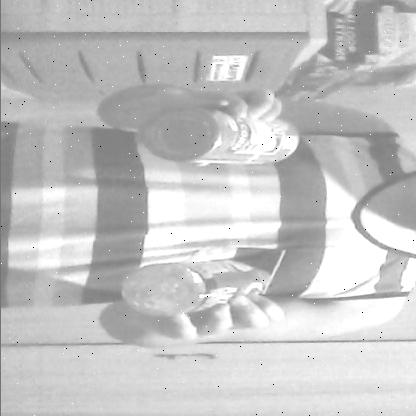Plastic Bottle: (102, 248, 295, 330)
